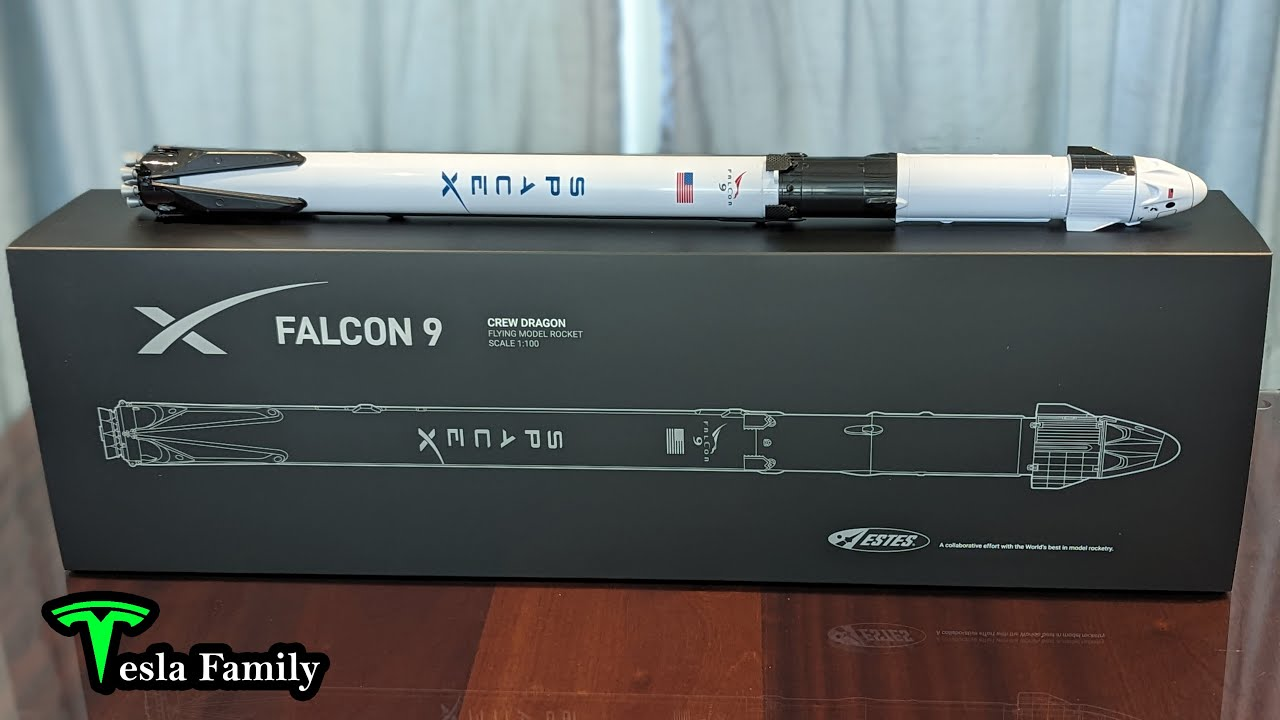falcon: (109, 115, 1217, 263)
